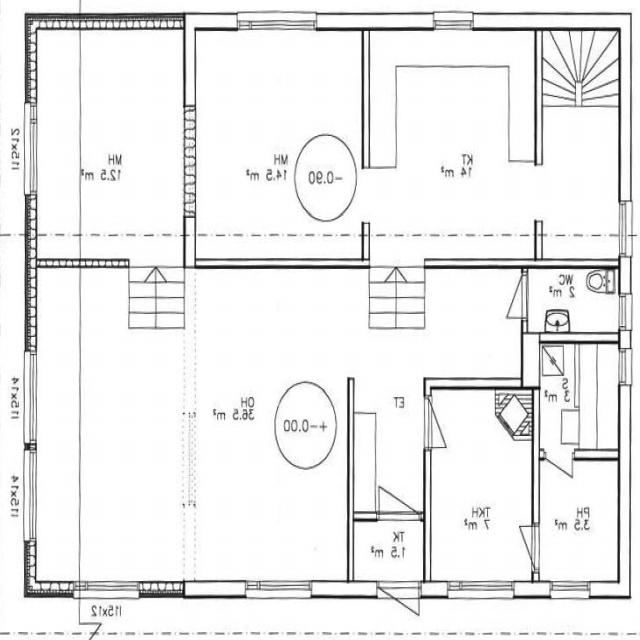door: (380, 456, 420, 520), (380, 581, 419, 640), (424, 398, 466, 447), (501, 526, 540, 569), (491, 276, 528, 318), (545, 452, 572, 498)
